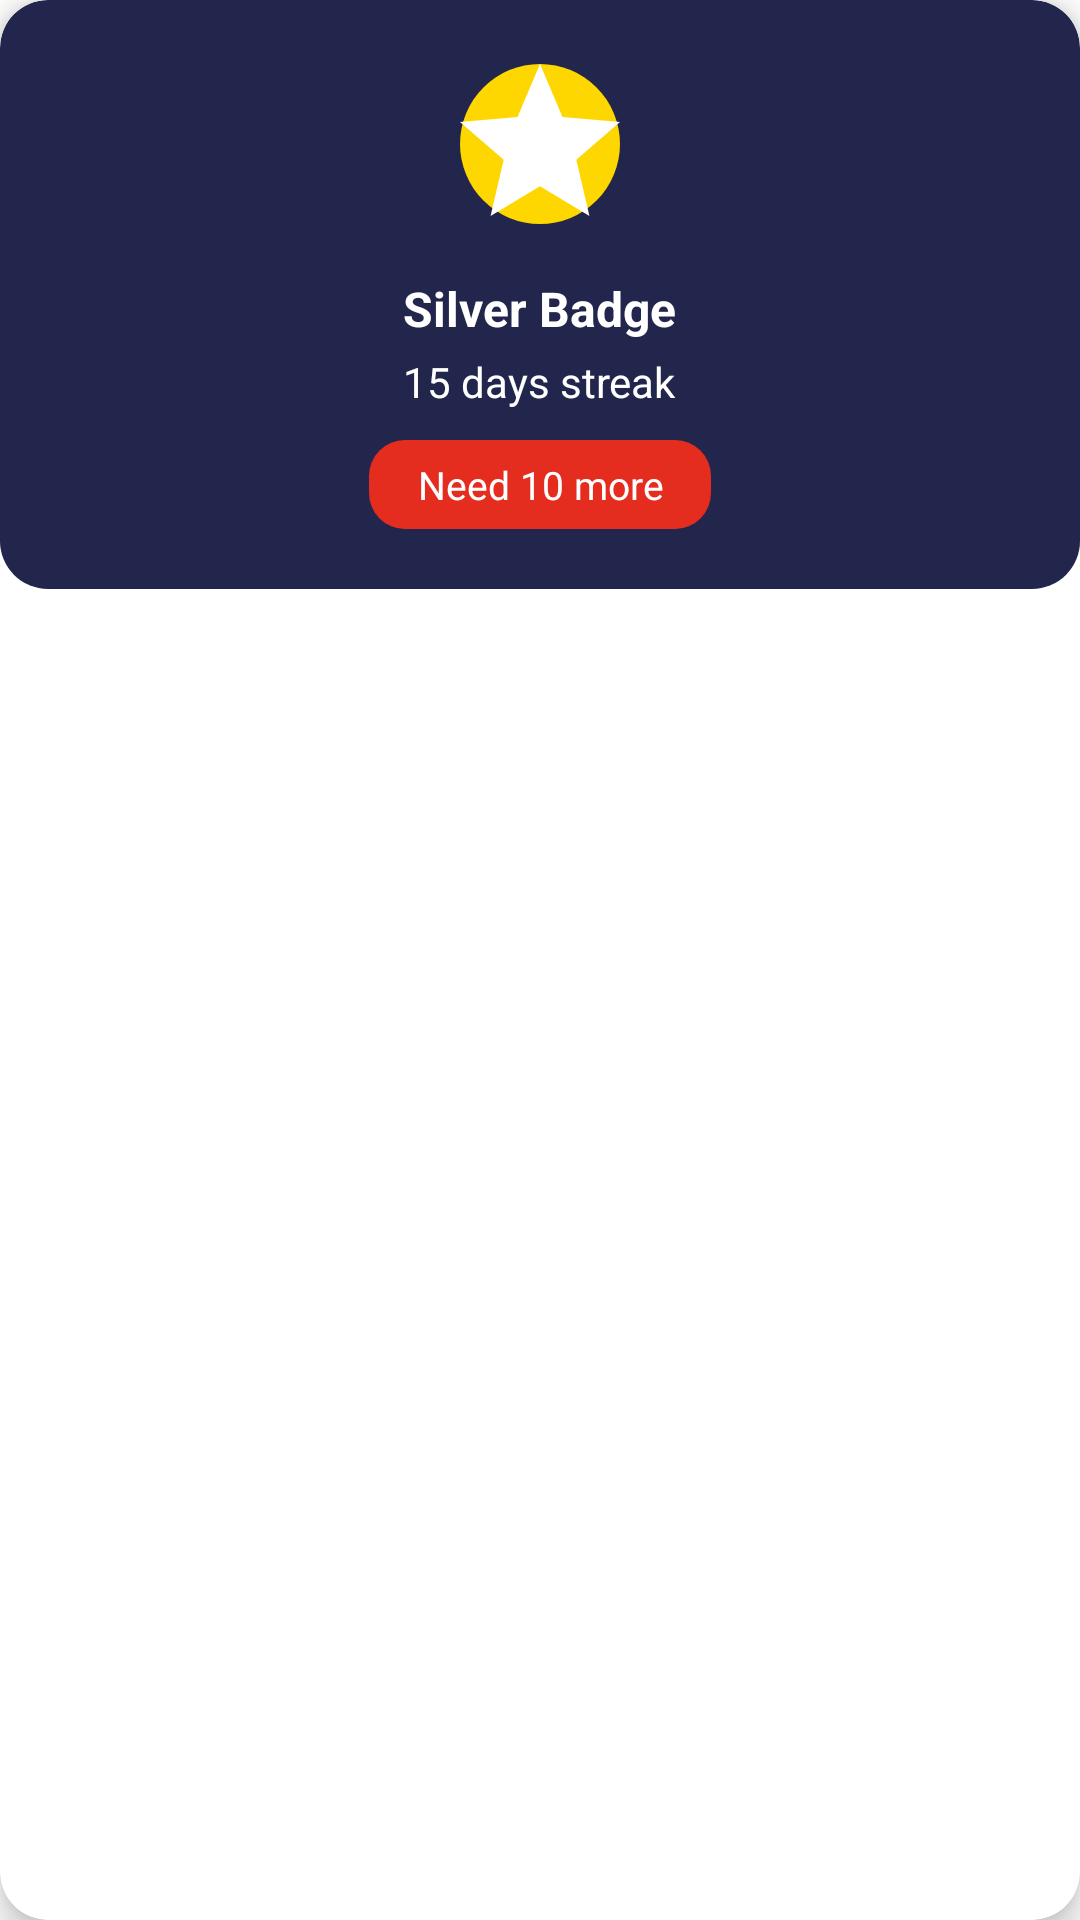

Icon click points for this 1080×1920 phone screenshot, format (x,y):
reward: (540,144)
